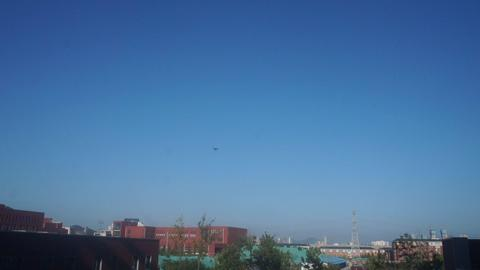UAV: (212, 148, 220, 151)
